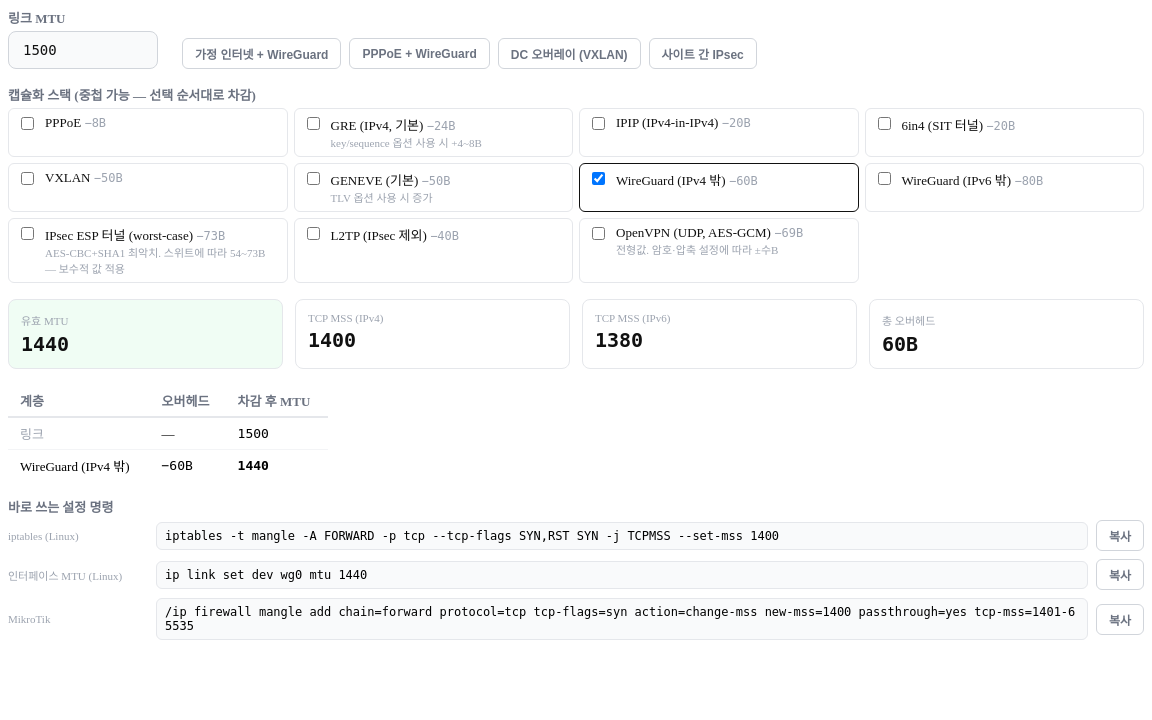
Test: MtuMssCalculator › PPPoE 체크 추가 시 중첩 재계산 (1432/1392)
Click the checkbox labelled "PPPoE −8B": click(28, 124) [21,117,34,130]
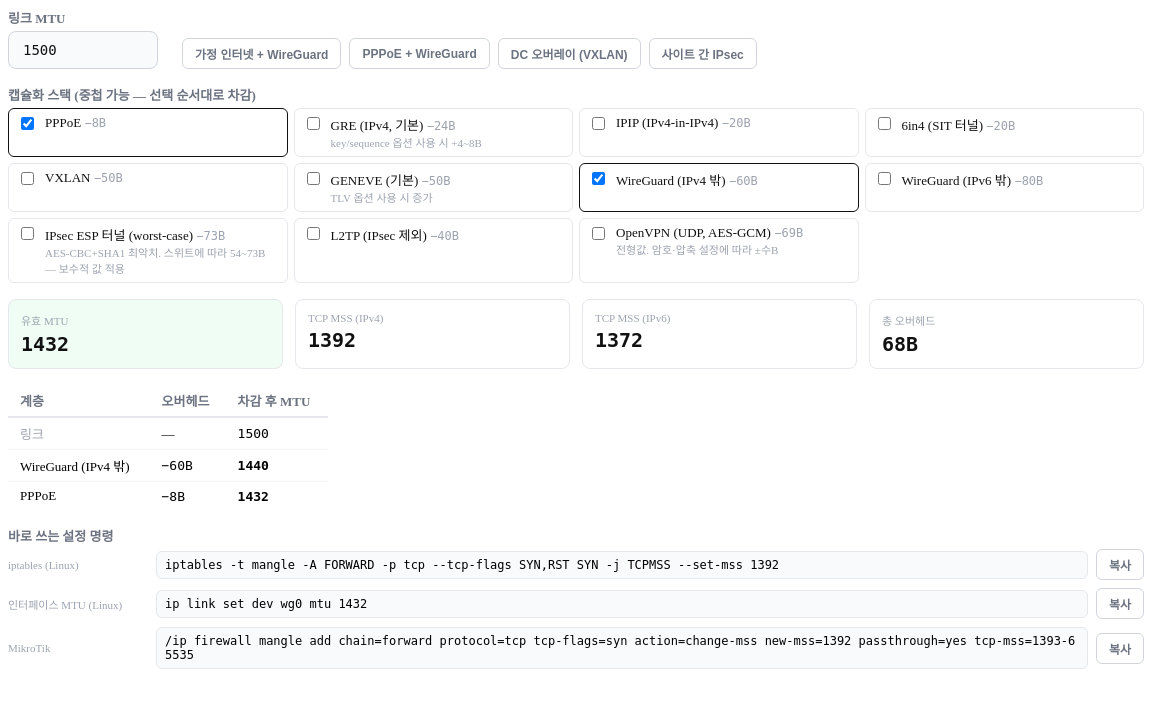
expect the text "1432" is shown: met, box [21,332,69,356]
expect the text "1392" is shown: met, box [308,328,356,352]
